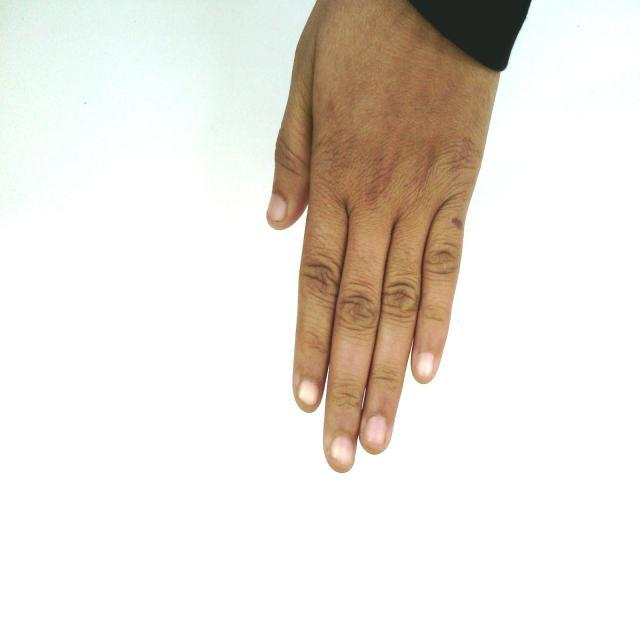Fingernail: (331, 435, 353, 465), (365, 416, 386, 445), (267, 193, 285, 220), (299, 380, 318, 405), (417, 353, 434, 377)
